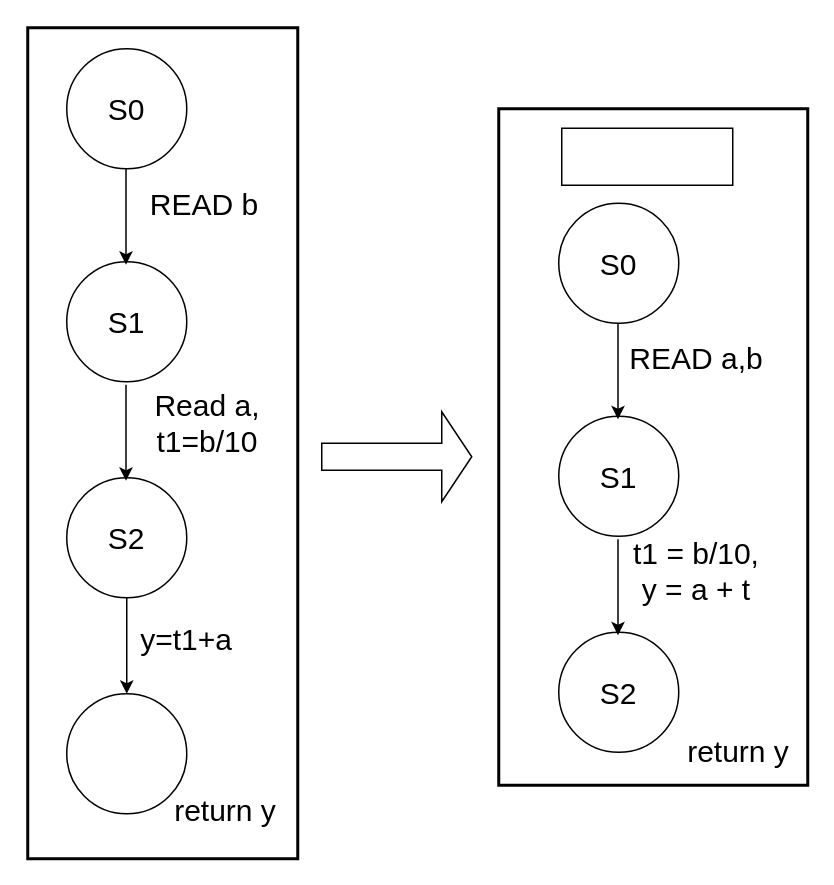
This 834x885 diagram has some shape labels left out. Here are the shapes that lost their labels. From the top down, the box of each, then its label:
(560, 127, 733, 185): RTL FSMD
(65, 692, 187, 814): S3
